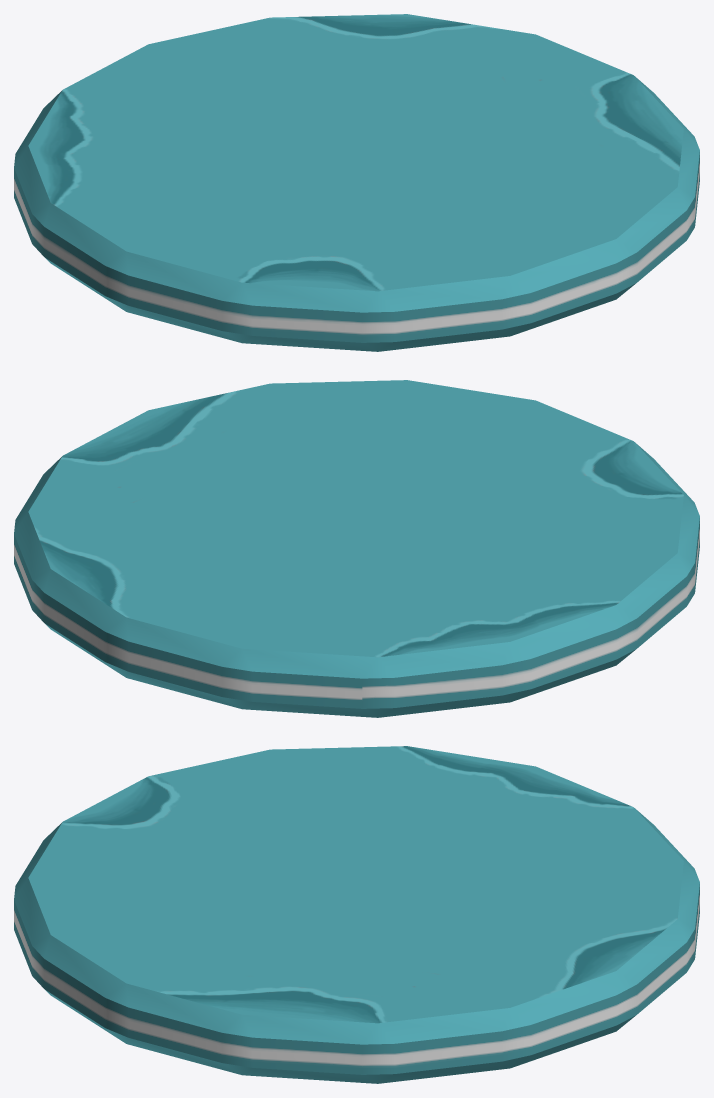
Rendered from Moving_Float_Three.fbx.
3 views of the same model, one above another, from view 1: azimuth 30°, elevation 25°; view 2: azimuth 150°, elevation 25°; view 3: azimuth 270°, elevation 25° (orthographic).
Visible parts, largest first — view 1: Platform_Four:pCylinder3; view 2: Platform_Four:pCylinder3; view 3: Platform_Four:pCylinder3.
Part boxes in pixels (<box>): Platform_Four:pCylinder3: <box>14,14,699,351</box>; Platform_Four:pCylinder3: <box>14,380,699,717</box>; Platform_Four:pCylinder3: <box>14,746,699,1083</box>.
Bounding box in the file's own units: 1.22 × 0.1192 × 1.22.
